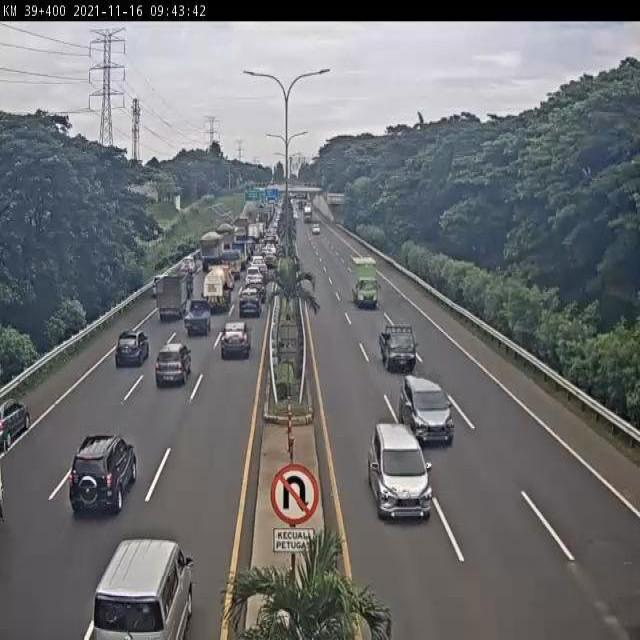car: (89, 536, 198, 640), (365, 418, 435, 530), (63, 430, 138, 530), (396, 373, 458, 448), (377, 317, 420, 373), (0, 395, 40, 453), (153, 339, 192, 389), (112, 324, 150, 369), (219, 318, 253, 362), (183, 297, 213, 340), (237, 289, 263, 319), (244, 275, 267, 304), (177, 252, 198, 276), (244, 265, 264, 288), (251, 253, 266, 272), (264, 251, 278, 268)
small truck: (153, 270, 192, 326), (348, 254, 383, 314), (220, 248, 244, 280)
truck-m-: (203, 263, 234, 313), (198, 232, 226, 276), (216, 219, 236, 248)
